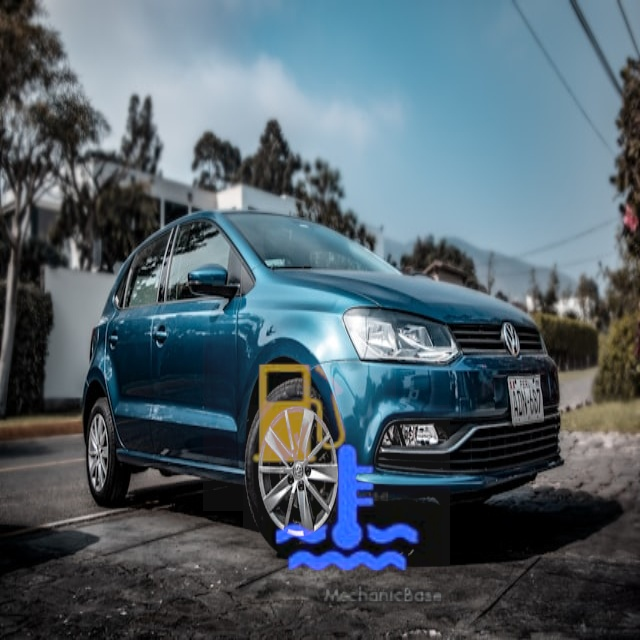symbol: (243, 405, 450, 612), (203, 318, 396, 511)
